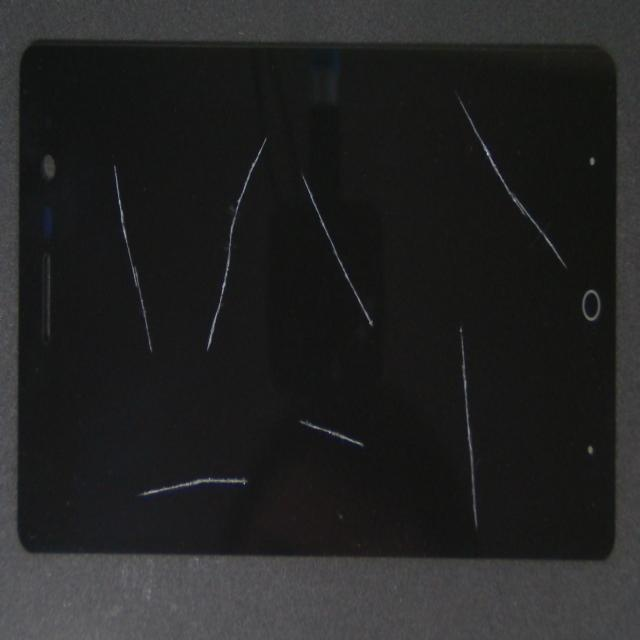scratch: (223, 233, 519, 636), (259, 407, 640, 640), (154, 271, 381, 640), (167, 0, 353, 295), (237, 249, 541, 415), (343, 215, 640, 290), (72, 66, 177, 187)
